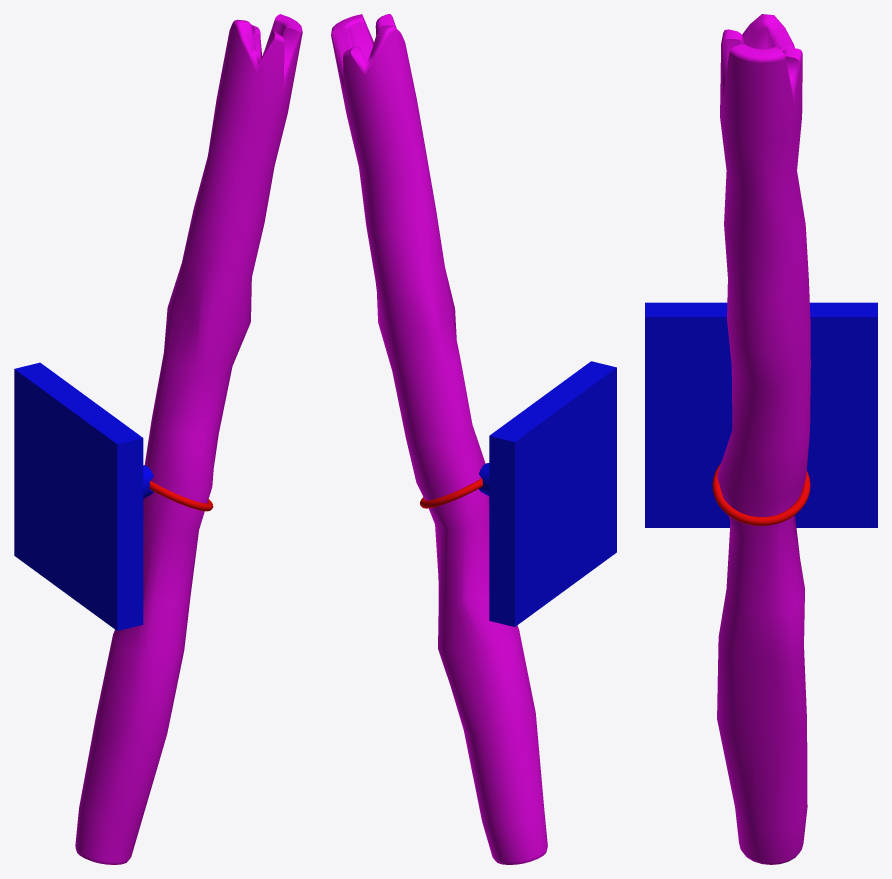
The model's file is torche_cassee.fbx.
The picture shows the model from 3 angles, left to right: view 1: azimuth 30°, elevation 25°; view 2: azimuth 150°, elevation 25°; view 3: azimuth 270°, elevation 25°; orthographic projection. The views are drawn at different scales.
Parts seen in each view (by area): view 1: torche_cassee; view 2: torche_cassee; view 3: torche_cassee.
Part boxes in pixels (box(x1,y1,x2,y2)): torche_cassee: box(14, 14, 302, 864); torche_cassee: box(331, 14, 616, 864); torche_cassee: box(645, 14, 877, 864).
Size of the model in its own units: 0.2266 by 0.7525 by 0.174.
